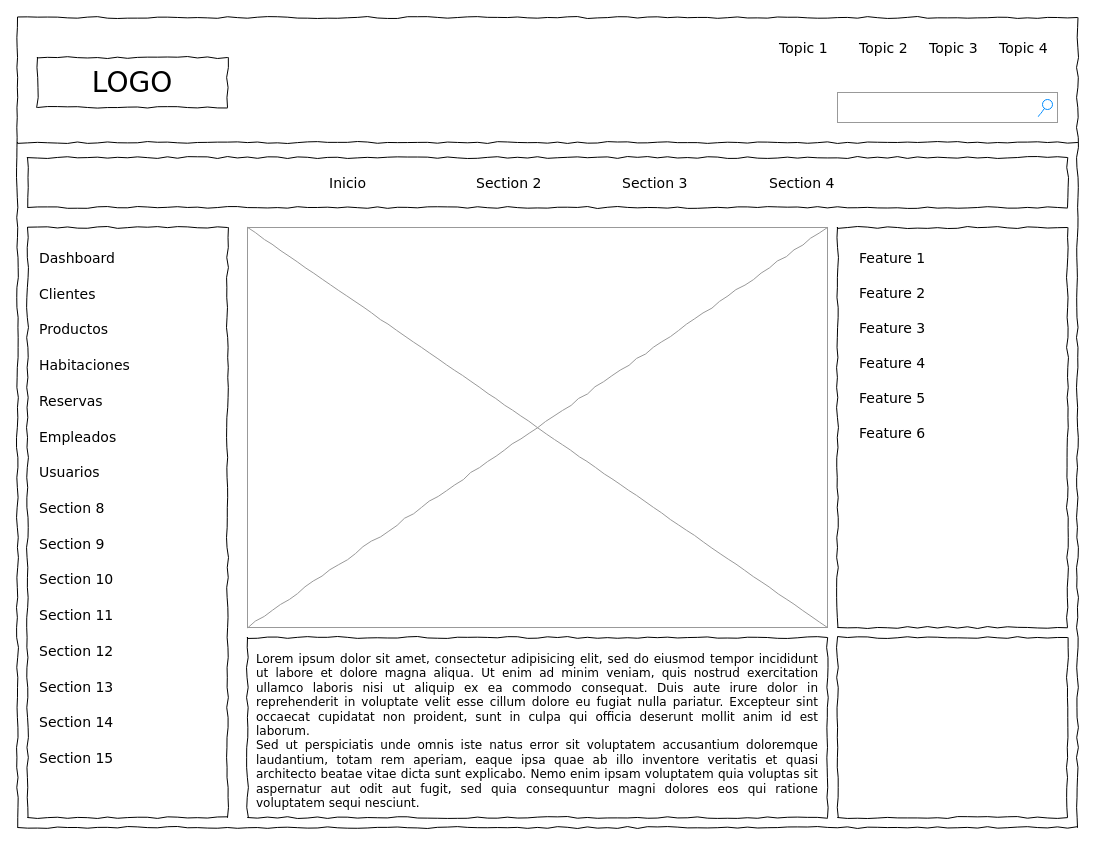
Some shapes in this 1095 by 845 pixel diagram are drawn without their labels. Each missing label, with the box of its shape:
External Links: (836, 636, 1068, 818)
Search: (836, 92, 1058, 122)
